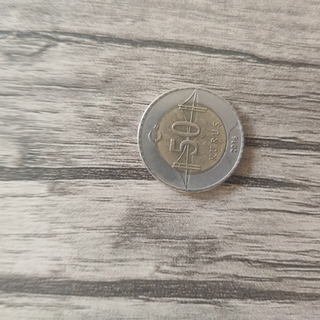50KURUS: (135, 85, 245, 194)
